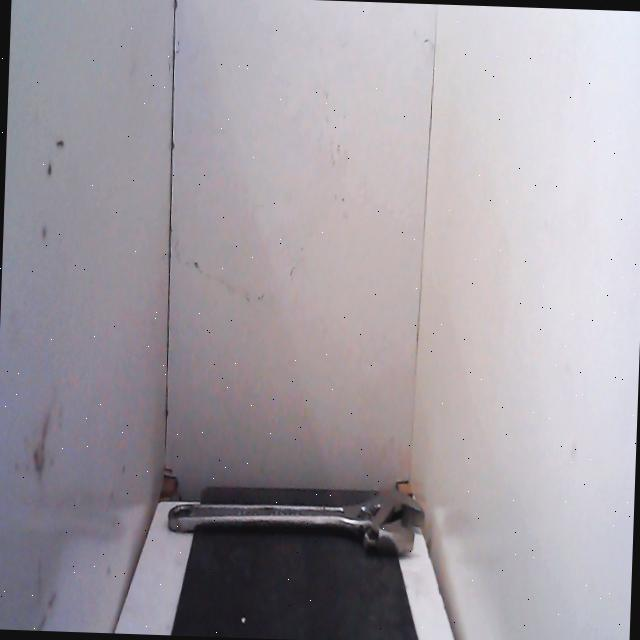metal: (156, 430, 442, 624)
